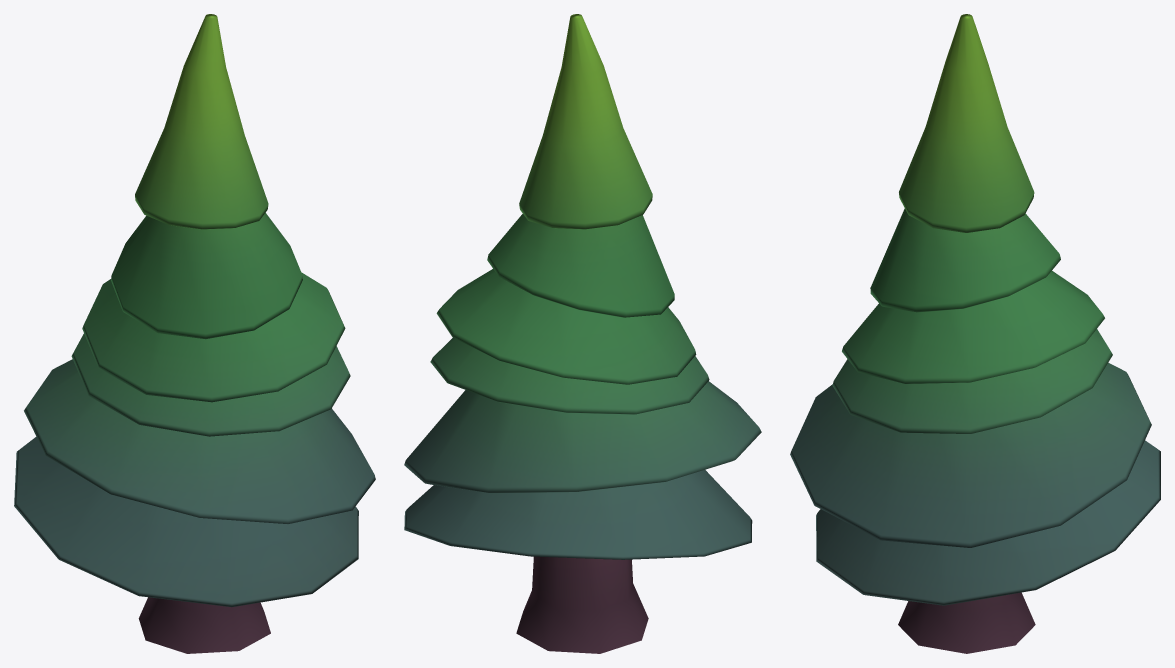
File: tree_pack_11.glb
The picture shows the model from 3 angles, left to right: view 1: azimuth 30°, elevation 25°; view 2: azimuth 150°, elevation 25°; view 3: azimuth 270°, elevation 25°; orthographic projection.
Visible parts, largest first — view 1: Tree.011; view 2: Tree.011; view 3: Tree.011.
Boxes of the visible parts, <box> form: Tree.011: <box>14,14,375,653</box>; Tree.011: <box>404,14,761,653</box>; Tree.011: <box>790,14,1160,653</box>.
Size of the model in its own units: 2.81 by 5.31 by 2.92.
Materials: 1 (1 with a texture image).
